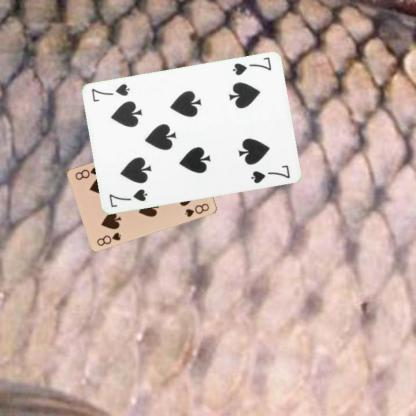7s: (229, 55, 273, 77), (106, 187, 148, 209)
8s: (94, 229, 123, 247)
